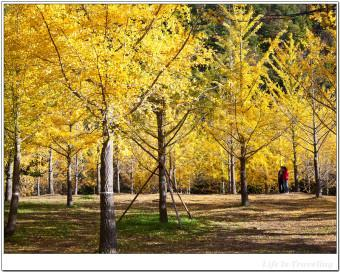tree: (202, 3, 282, 204)
